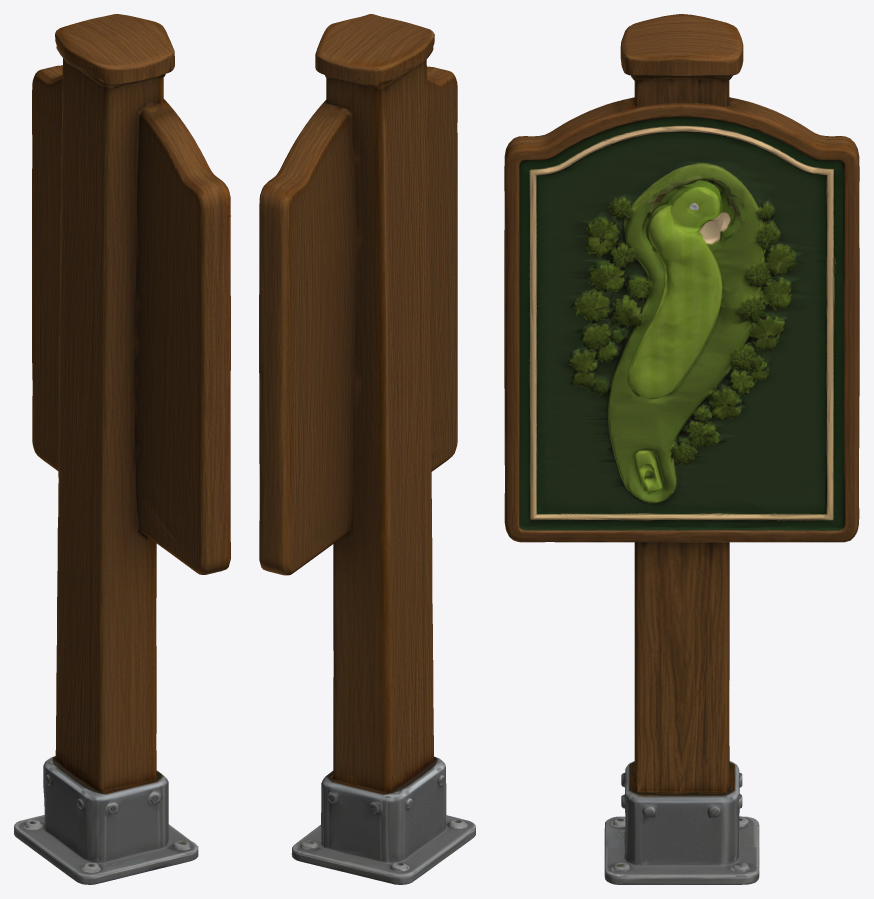
Rendered from course_sign.glb.
3 views of the same model, side by side, from view 1: azimuth 30°, elevation 25°; view 2: azimuth 150°, elevation 25°; view 3: azimuth 270°, elevation 25° (orthographic). The views are drawn at different scales.
Parts seen in each view (by area): view 1: tripo_node_b1755752-138b-40ad-9572-a04bbda99a54; view 2: tripo_node_b1755752-138b-40ad-9572-a04bbda99a54; view 3: tripo_node_b1755752-138b-40ad-9572-a04bbda99a54.
Part boxes in pixels (x1,y1,x2,y2): tripo_node_b1755752-138b-40ad-9572-a04bbda99a54: (14, 14, 230, 884); tripo_node_b1755752-138b-40ad-9572-a04bbda99a54: (259, 14, 475, 884); tripo_node_b1755752-138b-40ad-9572-a04bbda99a54: (504, 14, 859, 884).
Bounding box in the file's own units: 0.153 × 0.9793 × 0.3827.
1 material, 1 textured.
